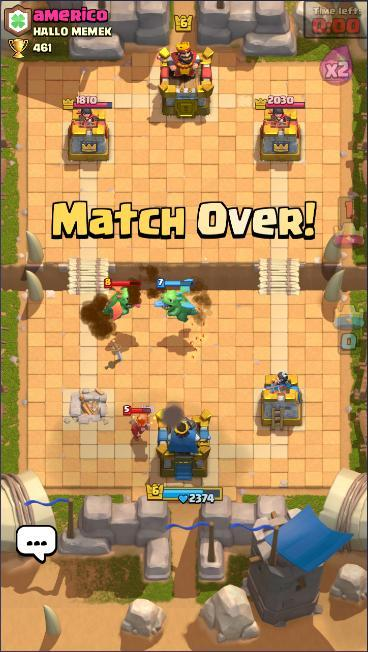ally_hungry_dragon: (152, 277, 200, 324)
enemy_baby_dragon: (102, 277, 143, 323)
enemy_valkyrie: (121, 404, 154, 445)
